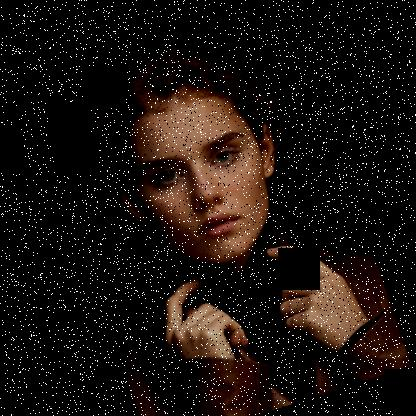Female: (92, 68, 304, 284)
